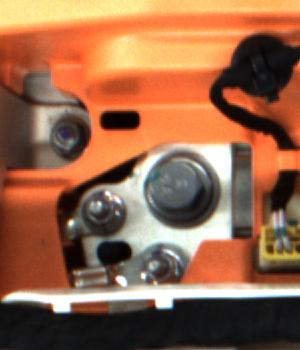nut_b: (139, 147, 224, 234)
